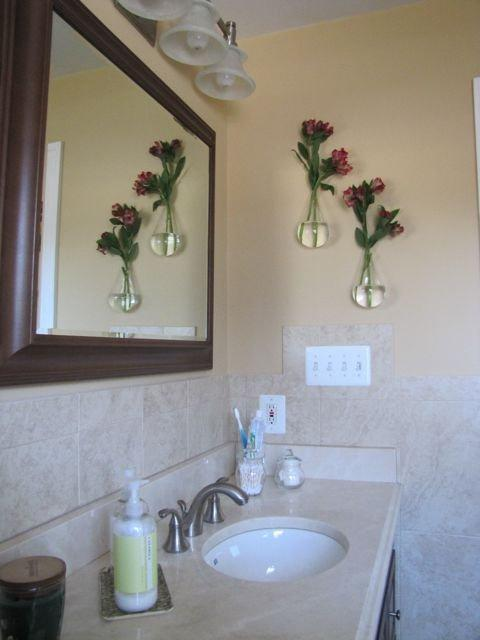Lavamanos: (138, 473, 363, 590)
